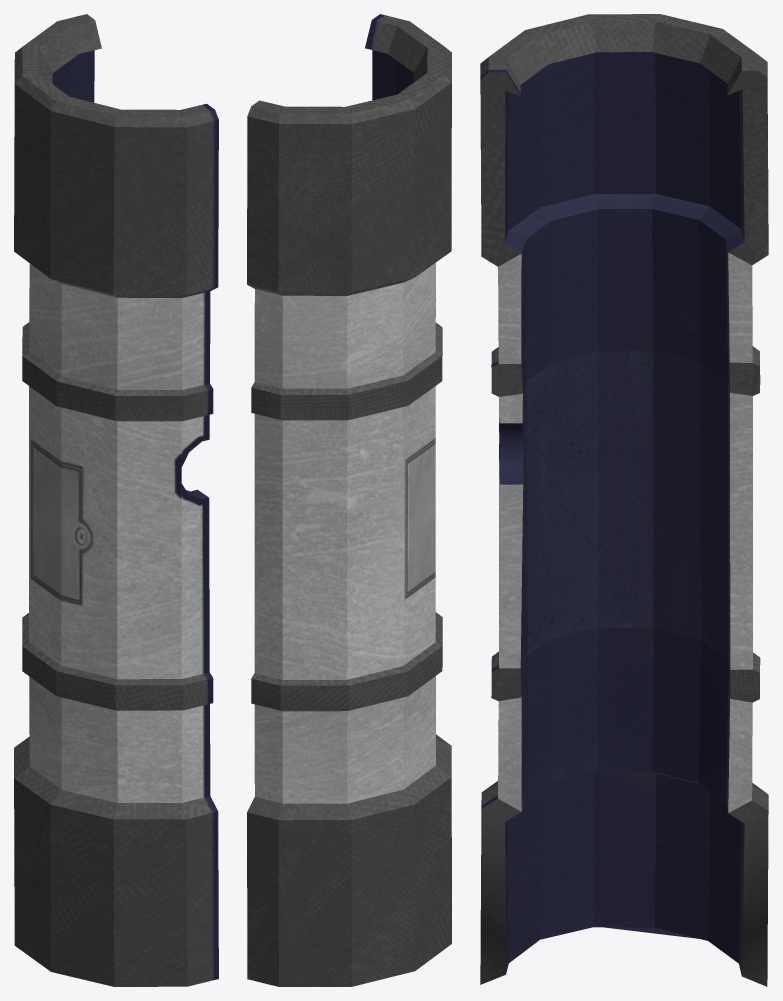
File: TimeMachine_left.fbx
The picture shows the model from 3 angles, left to right: view 1: azimuth 30°, elevation 25°; view 2: azimuth 150°, elevation 25°; view 3: azimuth 270°, elevation 25°; orthographic projection. The views are drawn at different scales.
Visible parts, largest first — view 1: LEFT; view 2: LEFT; view 3: LEFT.
Boxes of the visible parts, <box> form: LEFT: <box>14,14,218,986</box>; LEFT: <box>247,14,451,986</box>; LEFT: <box>480,14,768,986</box>.
Bounding box in the file's own units: 4.53 × 31.8 × 9.06.
Materials: 1 (1 with a texture image).
